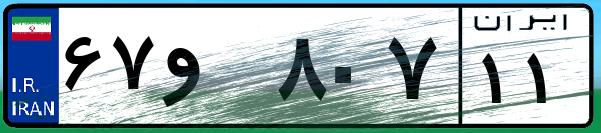0: (330, 28, 385, 110)
1: (475, 38, 525, 113), (525, 38, 570, 115)
6: (57, 26, 110, 100)
7: (385, 28, 445, 110), (110, 28, 158, 98)
8: (270, 28, 330, 110)
و: (158, 20, 270, 120)
